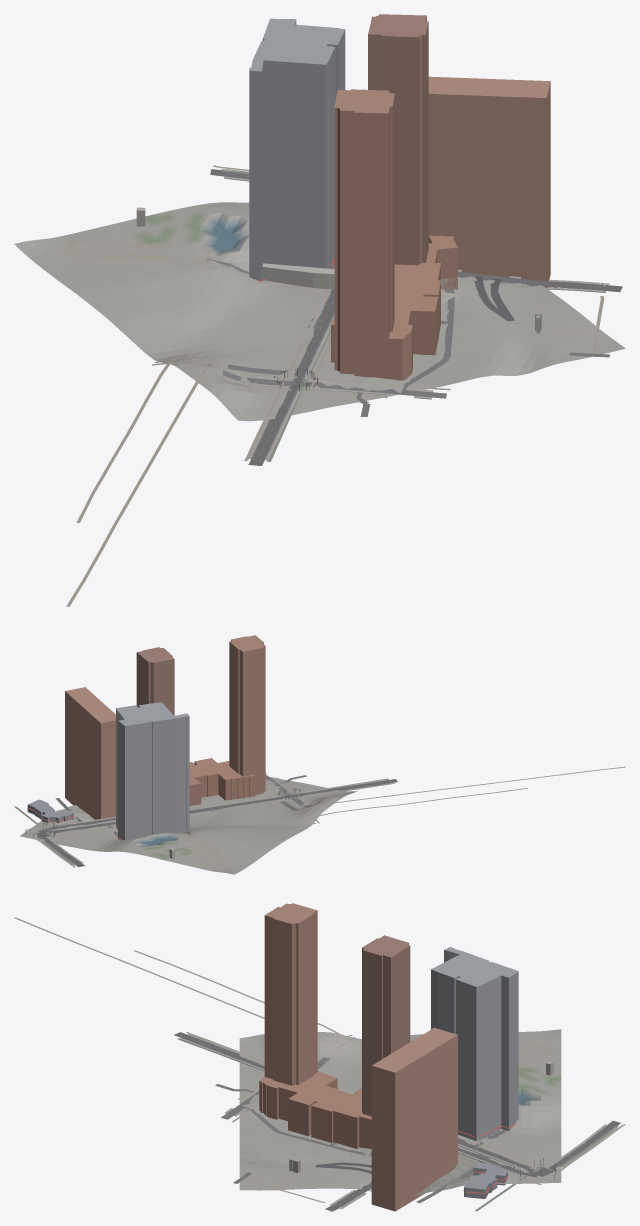
The model's file is tile_-5_3.glb.
The picture shows the model from 3 angles, top to bottom: view 1: azimuth 30°, elevation 25°; view 2: azimuth 150°, elevation 25°; view 3: azimuth 270°, elevation 25°; orthographic projection. The views are drawn at different scales.
Visible parts, largest first — view 1: buildings, terrain, roads, paths, sidewalks; view 2: buildings, terrain, paths, roads, sidewalks; view 3: buildings, terrain, roads, paths, sidewalks.
Boxes of the visible parts, x1,y1,x2,y2 form: buildings: (136,14,550,380); terrain: (14,202,625,421); roads: (206,169,622,465); paths: (56,165,604,606); sidewalks: (224,169,609,460); buildings: (27,635,265,858); terrain: (20,777,357,874); paths: (14,766,625,868); roads: (36,774,397,867); sidewalks: (41,772,389,865); buildings: (259,903,553,1211); terrain: (239,1029,561,1195); roads: (174,1032,620,1211); paths: (14,917,625,1211); sidewalks: (180,1034,617,1209).
Bounding box in the file's own units: 517 × 184 × 487.
